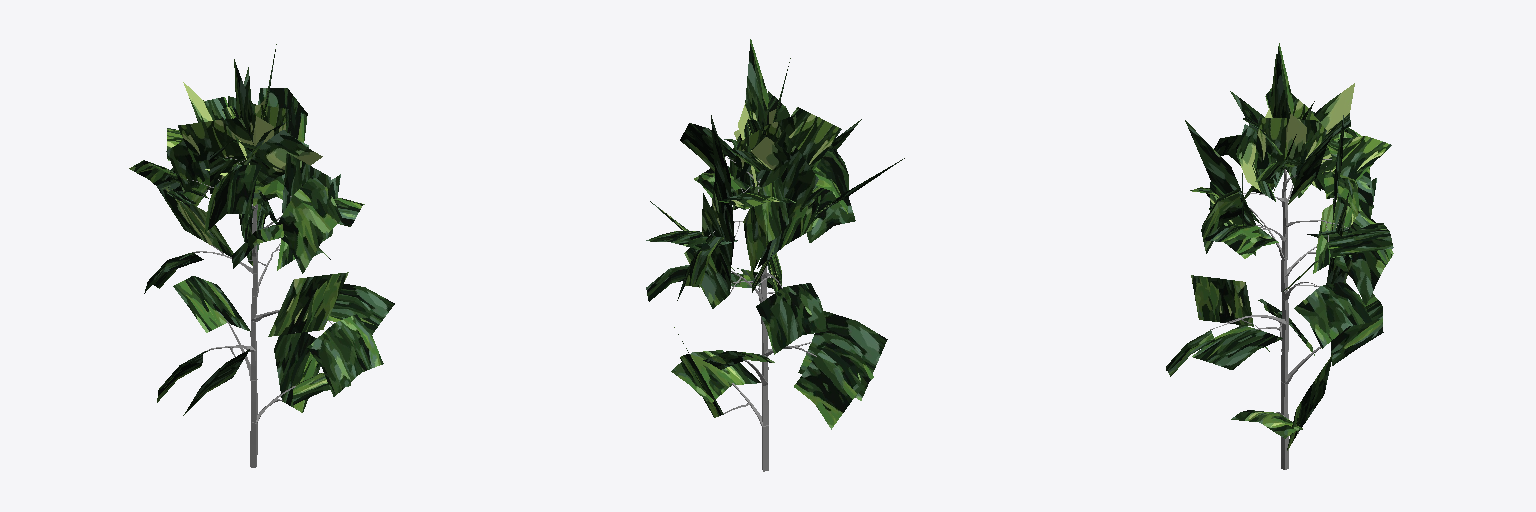
3 views of the same model, side by side, from view 1: azimuth 30°, elevation 25°; view 2: azimuth 150°, elevation 25°; view 3: azimuth 270°, elevation 25° (orthographic).
Parts seen in each view (by area): view 1: Oak_Leav; view 2: Oak_Leav; view 3: Oak_Leav.
Boxes of the visible parts, x1,y1,x2,y2 form: Oak_Leav: [129, 44, 394, 467]; Oak_Leav: [646, 39, 904, 471]; Oak_Leav: [1166, 43, 1393, 469].
Bounding box in the file's own units: 1.51 × 2.65 × 1.29.
2 materials, 1 textured.